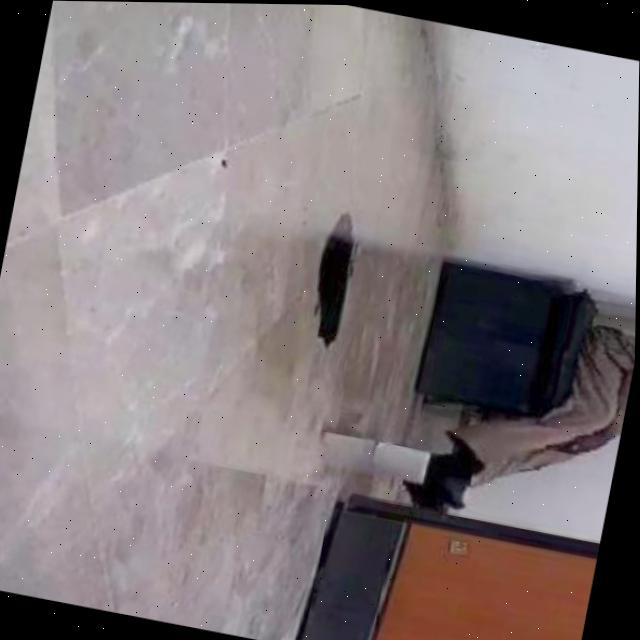spillage: (306, 207, 356, 354)
